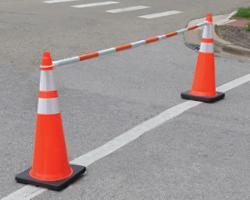traffic cone: (15, 50, 88, 192), (180, 13, 225, 104)
